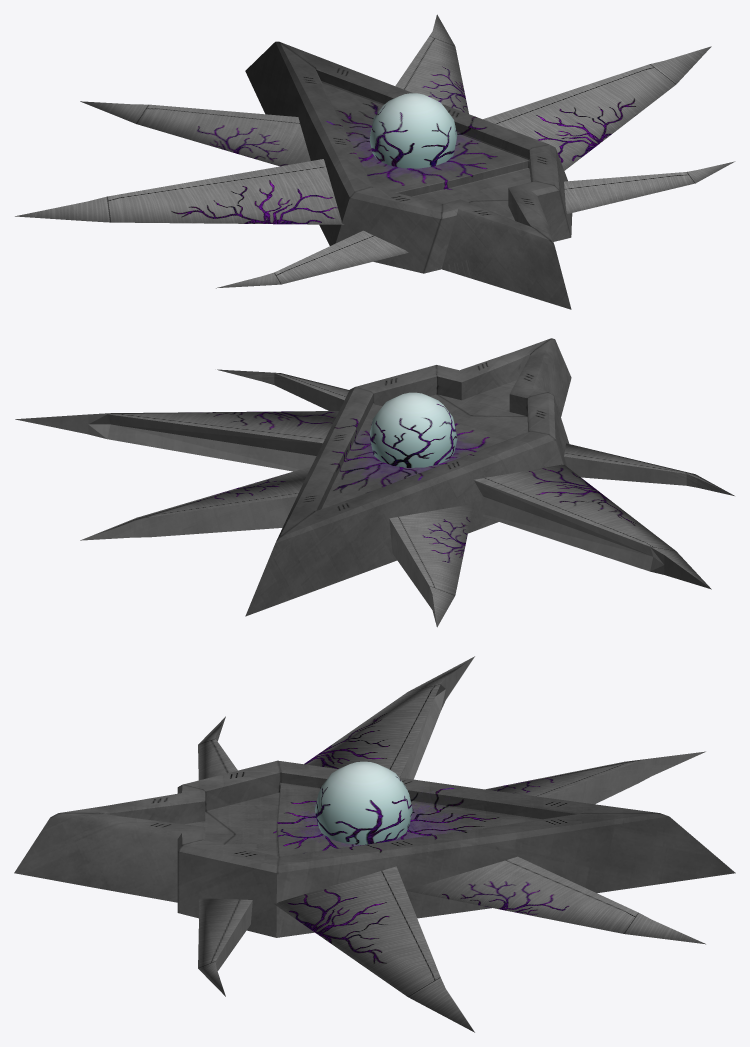
File: FINALship.FBX
3 renders of one model, top to bottom at view 1: azimuth 30°, elevation 25°; view 2: azimuth 150°, elevation 25°; view 3: azimuth 270°, elevation 25°, orthographic. The views are drawn at different scales.
Parts seen in each view (by area): view 1: Box002, Plane003, Sphere001; view 2: Plane003, Box002, Sphere001; view 3: Box002, Plane003, Sphere001.
Boxes of the visible parts, bbox=[...] form: Box002: bbox=[245, 41, 572, 309]; Plane003: bbox=[15, 14, 735, 288]; Sphere001: bbox=[369, 93, 457, 168]; Plane003: bbox=[15, 369, 734, 627]; Box002: bbox=[245, 338, 571, 616]; Sphere001: bbox=[369, 392, 457, 467]; Box002: bbox=[14, 760, 735, 937]; Plane003: bbox=[198, 656, 705, 1032]; Sphere001: bbox=[315, 761, 412, 844].
Bounding box in the file's own units: 127 × 16.89 × 103.
Materials: 1 (1 with a texture image).
